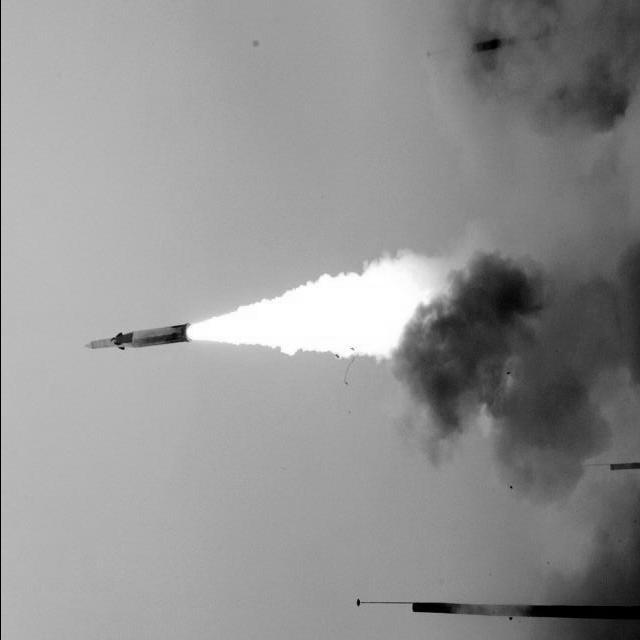Missile: (76, 319, 200, 361)
